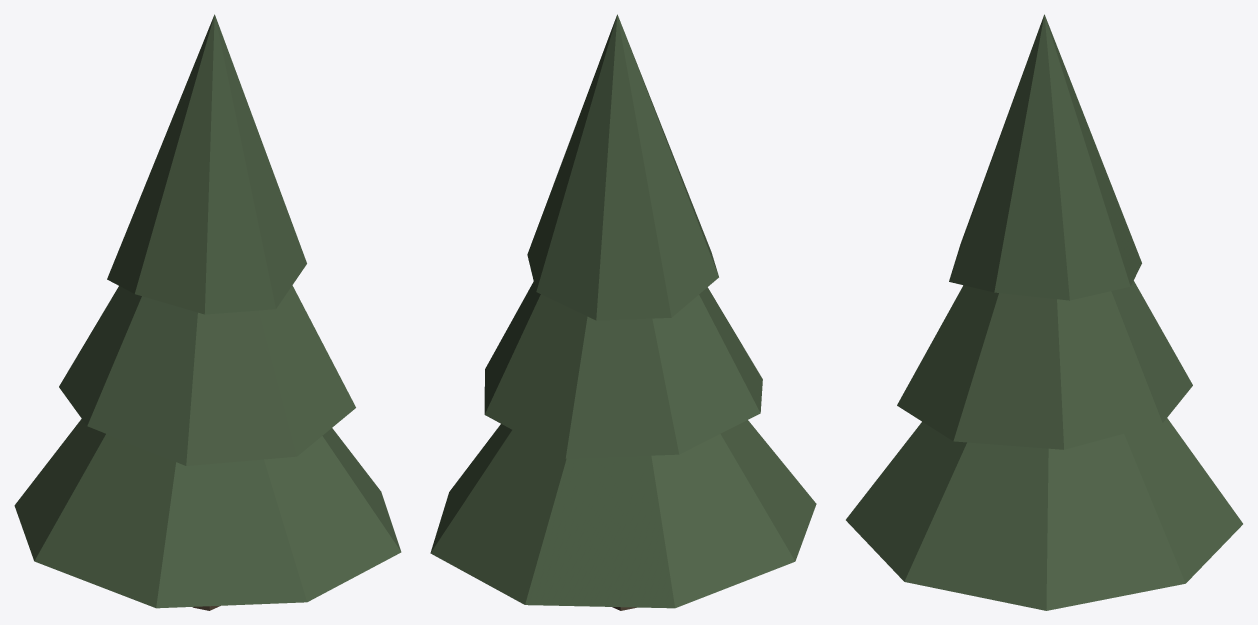
3 renders of one model, left to right at view 1: azimuth 30°, elevation 25°; view 2: azimuth 150°, elevation 25°; view 3: azimuth 270°, elevation 25°, orthographic.
Visible parts, largest first — view 1: spruce-previous; view 2: spruce-previous; view 3: spruce-previous.
Part boxes in pixels (x1,y1,x2,y2): spruce-previous: [14, 14, 401, 610]; spruce-previous: [430, 14, 816, 610]; spruce-previous: [846, 14, 1242, 610].
Bounding box in the file's own units: 12.12 × 19.68 × 12.12.
